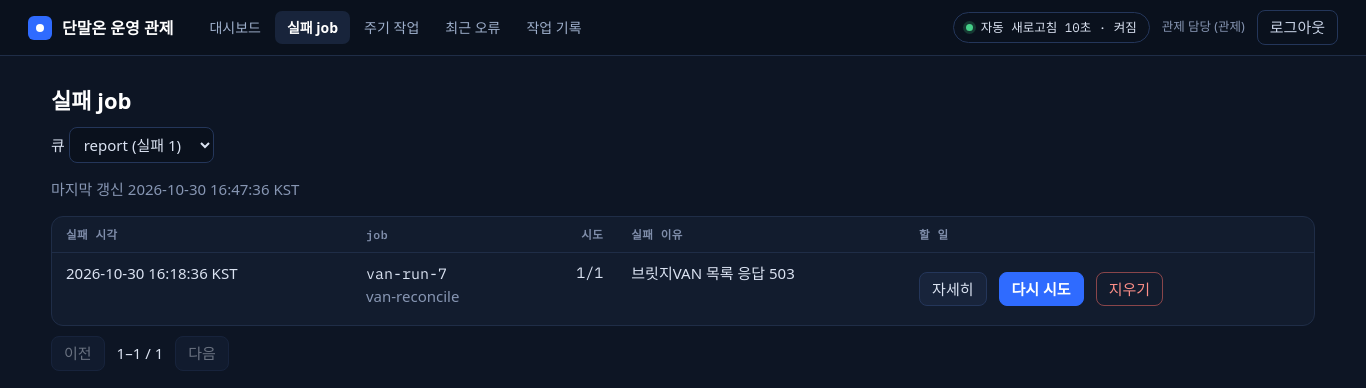
Test: 실패 job (보강 6, decisions/0072) › 큐를 고르지 않은 채 그 큐의 마지막 실패 job을 지워도 고른 큐가 다른 큐로 바뀌지 않는다(작업 뒤 큐를 주소에 고정, 최종 리뷰 Minor 2)
Click the button "지우기" at (1129, 289), box [1096,272,1163,306]
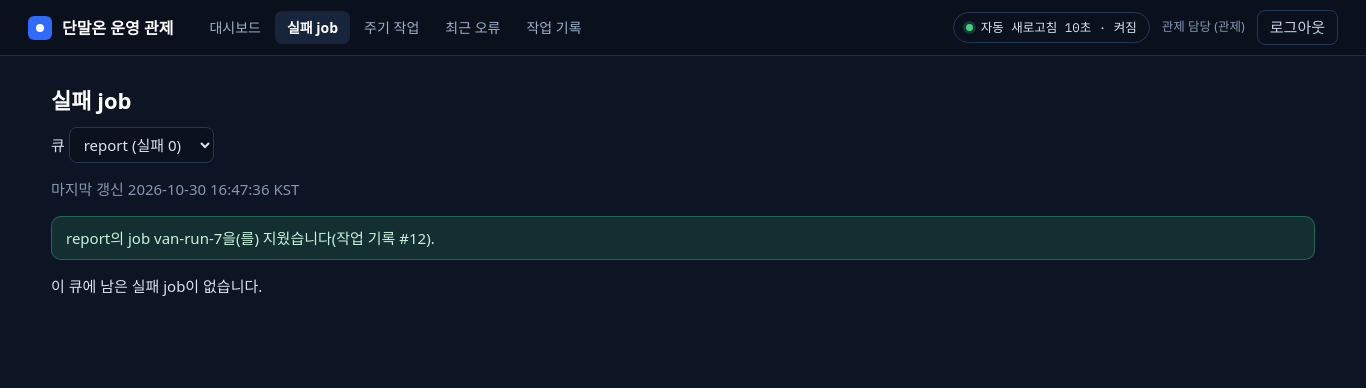
Check: the text "report의 job van-run-7을(를) 지웠습니다(작업 기록 #12)." is shown, box [51,216,1315,260]
Check: the text "이 큐에 남은 실패 job이 없습니다." is shown, box [51,276,262,296]
Check: the dropdown labelled "큐" shows "report (실패 0)", box [69,127,214,163]
